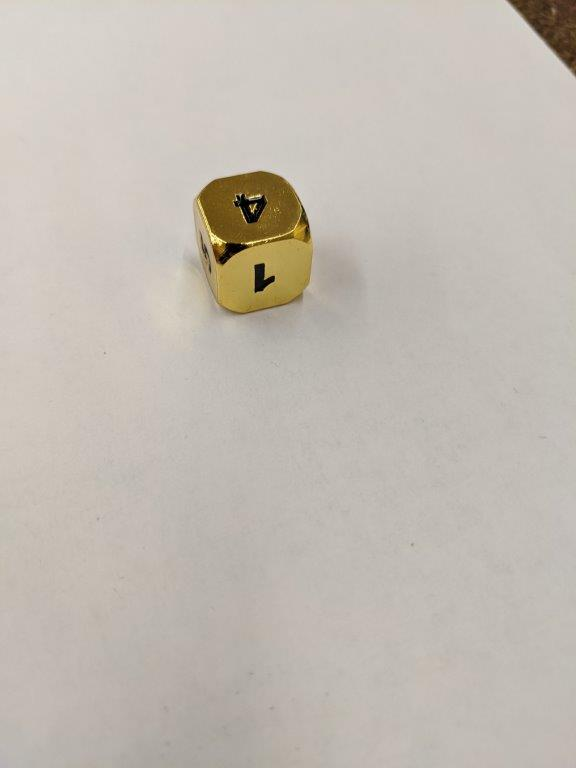d6-4: (192, 169, 318, 317)
